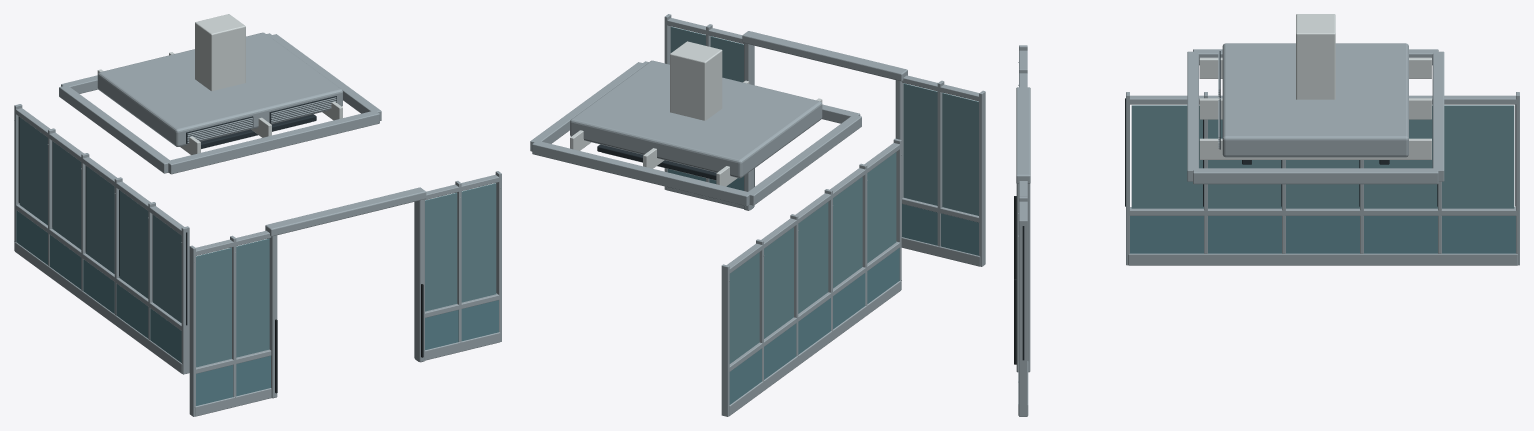
Rendered from SF_E02_Interior.fbx.
3 views of the same model, side by side, from view 1: azimuth 30°, elevation 25°; view 2: azimuth 150°, elevation 25°; view 3: azimuth 270°, elevation 25° (orthographic). The views are drawn at different scales.
Parts seen in each view (by area): view 1: SF_E02_Interior; view 2: SF_E02_Interior; view 3: SF_E02_Interior.
Boxes of the visible parts, x1,y1,x2,y2 form: SF_E02_Interior: (14, 14, 501, 416); SF_E02_Interior: (530, 14, 985, 416); SF_E02_Interior: (1014, 14, 1519, 416).
Bounding box in the file's own units: 577 × 468 × 701.
